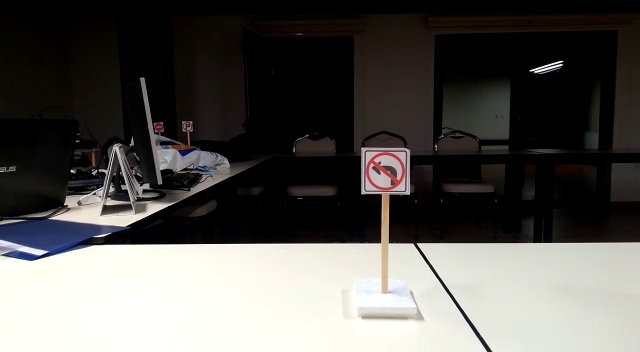sola_donulmez: (363, 148, 407, 193)
